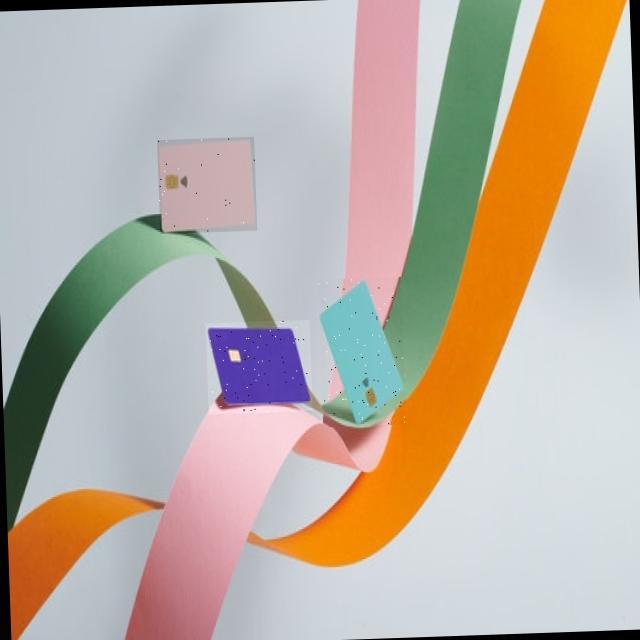payment_card: (318, 283, 404, 424), (155, 135, 257, 233), (206, 325, 310, 406)
